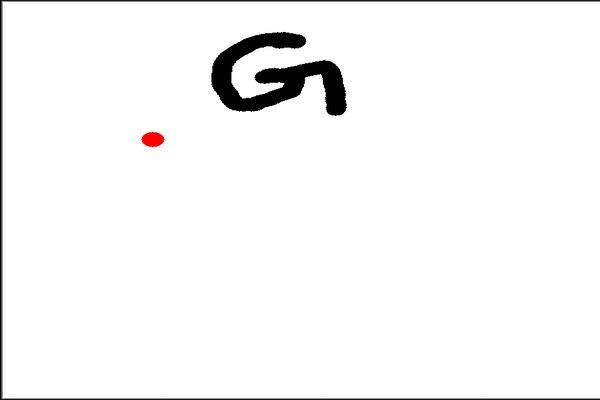G: (205, 27, 355, 124)
